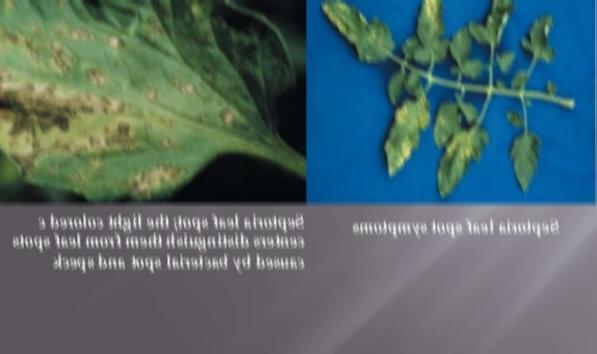Tomato Septoria leaf spot: (0, 0, 293, 200), (320, 0, 398, 74), (416, 124, 492, 198), (381, 92, 439, 175), (410, 0, 454, 73)
